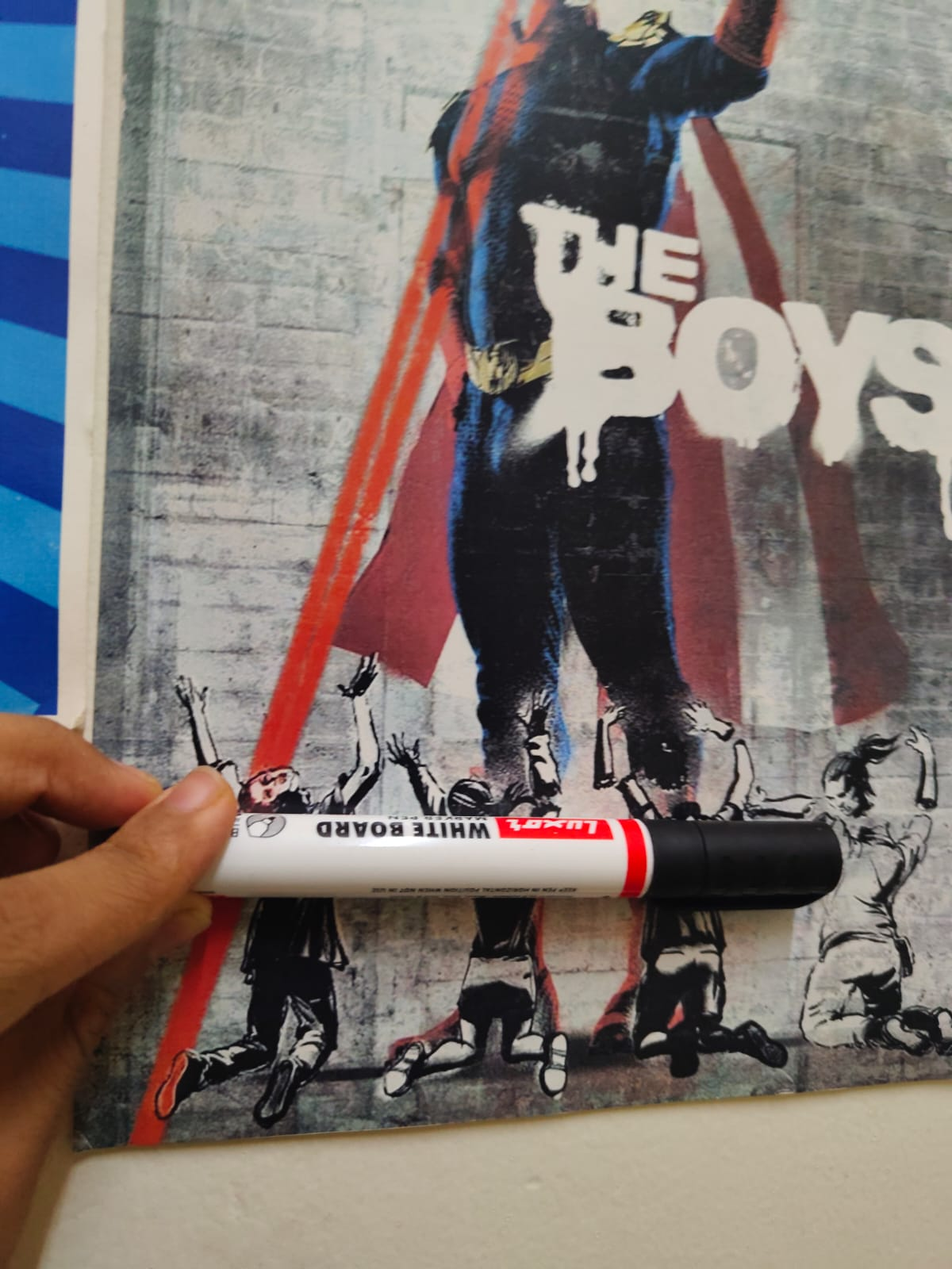case: (196, 787, 858, 931)
